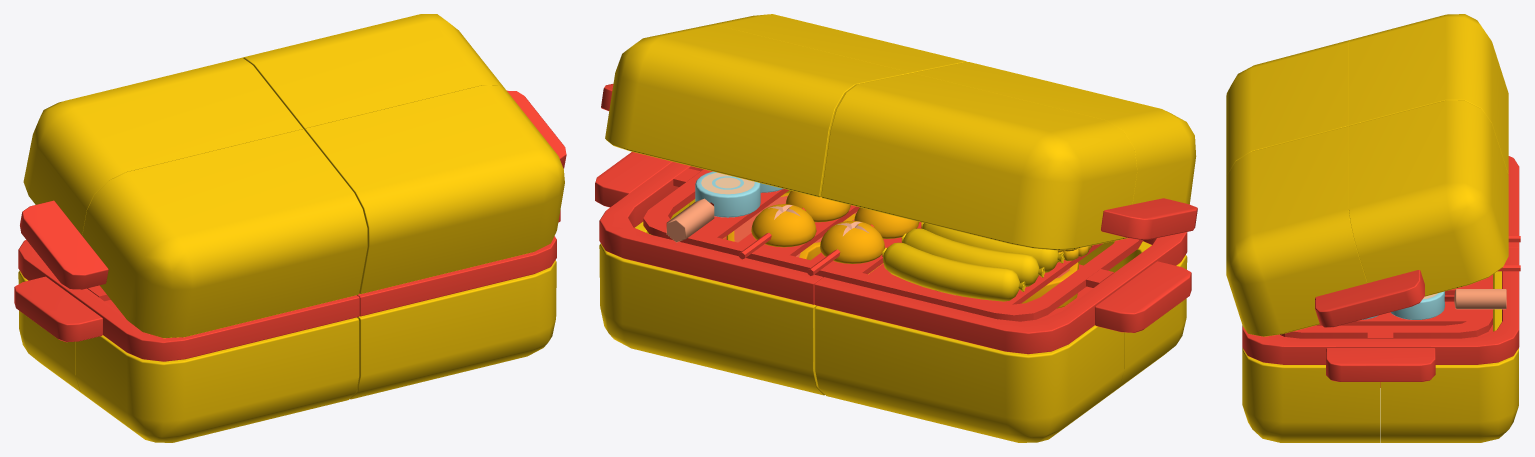
Rendered from level_154.fbx.
3 renders of one model, left to right at view 1: azimuth 30°, elevation 25°; view 2: azimuth 150°, elevation 25°; view 3: azimuth 270°, elevation 25°, orthographic. The views are drawn at different scales.
Visible parts, largest first — view 1: Cube_L1_2, Cube_L1_3, Cube_L1, Cube_L2_2, Cube_L1_1, Cube_L2_3, Cube_L4, Cube_L4_1, Cube_L1_4, Cube_L2_4, Cube_L2, Cube_L1_5; view 2: Cube_L1, Cube_L1_1, Cube_L2, Cube_L2_1, Cube_L4_2, Cube_L4, Cube_L1_2, Cube_L4_1, Cube_L1_3, Cube_L3, Cube_L2_4, Cube_L3_7 (+9 smaller); view 3: Cube_L1_1, Cube_L1_3, Cube_L1, Cube_L1_2, Cube_L2_1, Cube_L2_3, Cube_L4_1, Cube_L4_2, Cube_L1_5, Cube_L2_5, Cube_L3_11, Cube_L4 (+1 smaller).
Boxes of the visible parts, x1,y1,x2,y2 form: Cube_L1_2: [82, 129, 367, 338]; Cube_L1_3: [305, 85, 564, 294]; Cube_L1: [23, 57, 303, 235]; Cube_L2_2: [75, 317, 359, 442]; Cube_L1_1: [242, 14, 507, 129]; Cube_L2_3: [350, 260, 556, 399]; Cube_L4: [18, 240, 359, 361]; Cube_L4_1: [357, 236, 556, 316]; Cube_L1_4: [20, 200, 108, 289]; Cube_L2_4: [14, 276, 102, 342]; Cube_L2: [18, 270, 90, 399]; Cube_L1_5: [507, 90, 566, 168]; Cube_L1: [821, 73, 1136, 250]; Cube_L1_1: [605, 25, 910, 197]; Cube_L2: [815, 306, 1124, 442]; Cube_L2_1: [599, 203, 824, 395]; Cube_L4_2: [643, 168, 1143, 321]; Cube_L4: [814, 232, 1187, 354]; Cube_L1_2: [913, 62, 1196, 238]; Cube_L4_1: [599, 162, 822, 304]; Cube_L1_3: [699, 14, 966, 73]; Cube_L3: [882, 242, 1025, 301]; Cube_L2_4: [1094, 261, 1191, 332]; Cube_L3_7: [739, 190, 850, 259]; Cube_L1_1: [1349, 100, 1508, 296]; Cube_L1_3: [1226, 126, 1367, 336]; Cube_L1: [1349, 14, 1508, 173]; Cube_L1_2: [1226, 40, 1350, 177]; Cube_L2_1: [1381, 271, 1518, 442]; Cube_L2_3: [1242, 348, 1380, 442]; Cube_L4_1: [1242, 247, 1519, 364]; Cube_L4_2: [1280, 274, 1492, 338]; Cube_L1_5: [1315, 270, 1424, 327]; Cube_L2_5: [1326, 348, 1435, 381]; Cube_L3_11: [1444, 289, 1506, 309]; Cube_L4: [1508, 156, 1519, 248].
Size of the model in its own units: 13.51 by 6.94 by 7.2.
